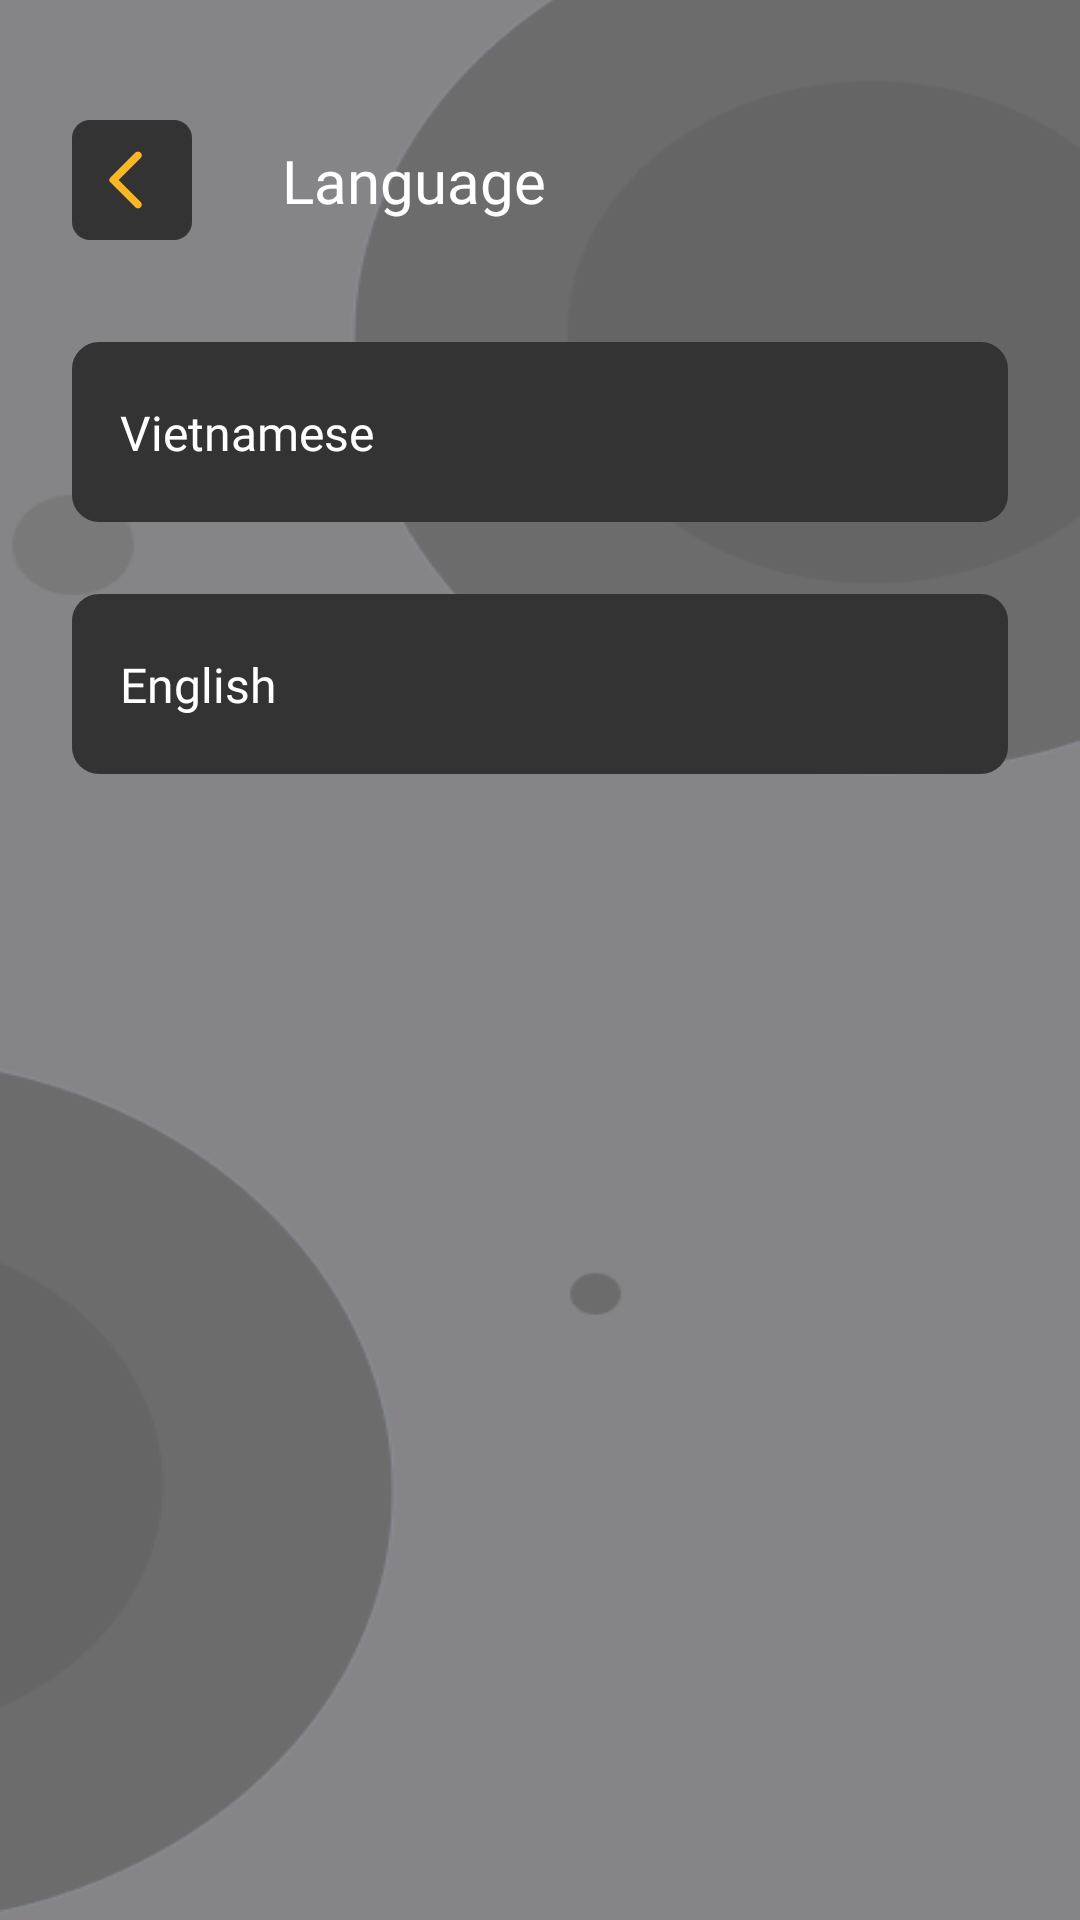

Icon bounding boxes for this 1080x1920 phone screenshot, format (x1,y1,x2,y2):
Back: (72,120,192,240)
